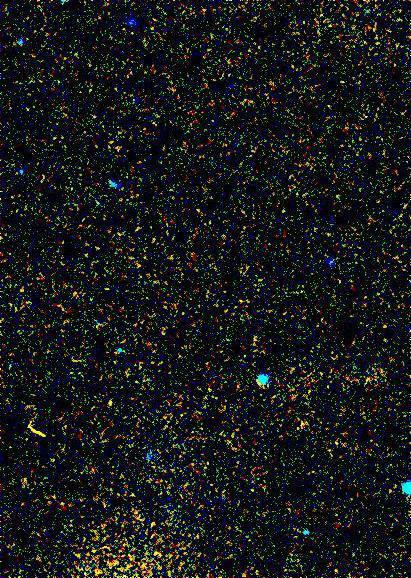star: (77, 187, 107, 217)
